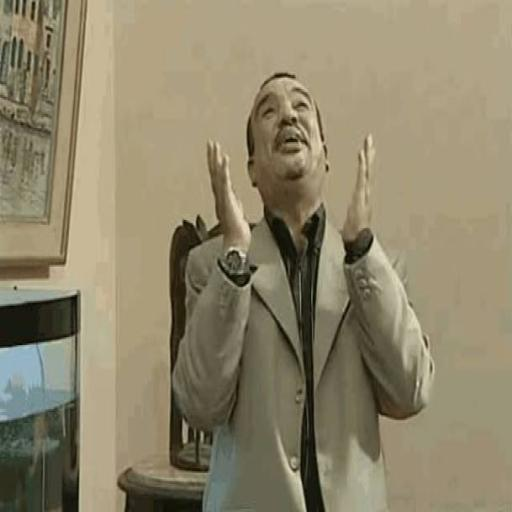slimane: (246, 72, 329, 215)
